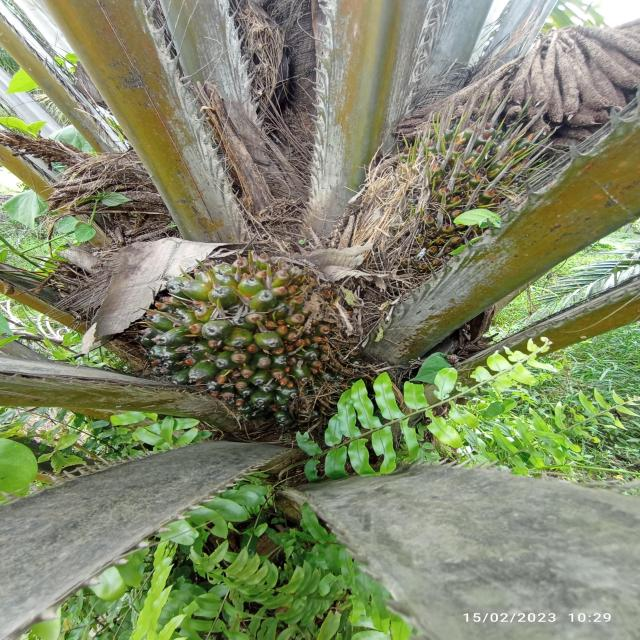fraksi 00: (97, 218, 405, 445)
